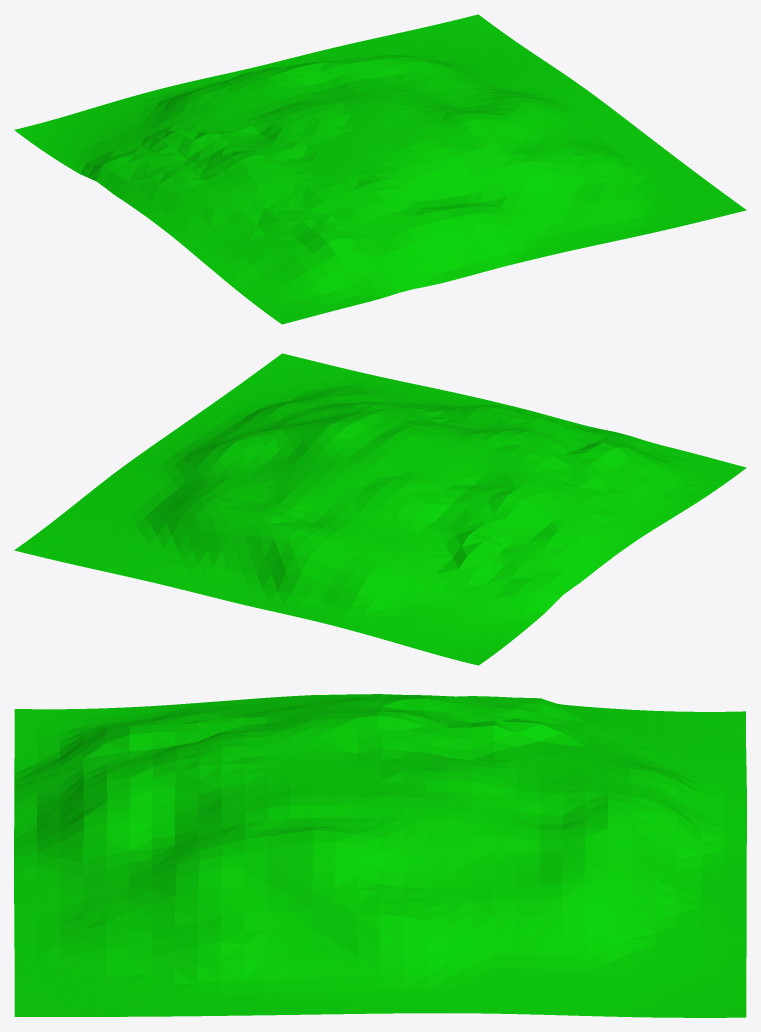
File: island.dae
3 views of the same model, one above another, from view 1: azimuth 30°, elevation 25°; view 2: azimuth 150°, elevation 25°; view 3: azimuth 270°, elevation 25° (orthographic). The views are drawn at different scales.
Visible parts, largest first — view 1: Plane; view 2: Plane; view 3: Plane.
Part boxes in pixels (left/top/right/bottom): Plane: left=14, top=14, right=746, bottom=324; Plane: left=14, top=353, right=746, bottom=665; Plane: left=14, top=694, right=746, bottom=1017.
Bounding box in the file's own units: 201 × 200 × 22.19.
